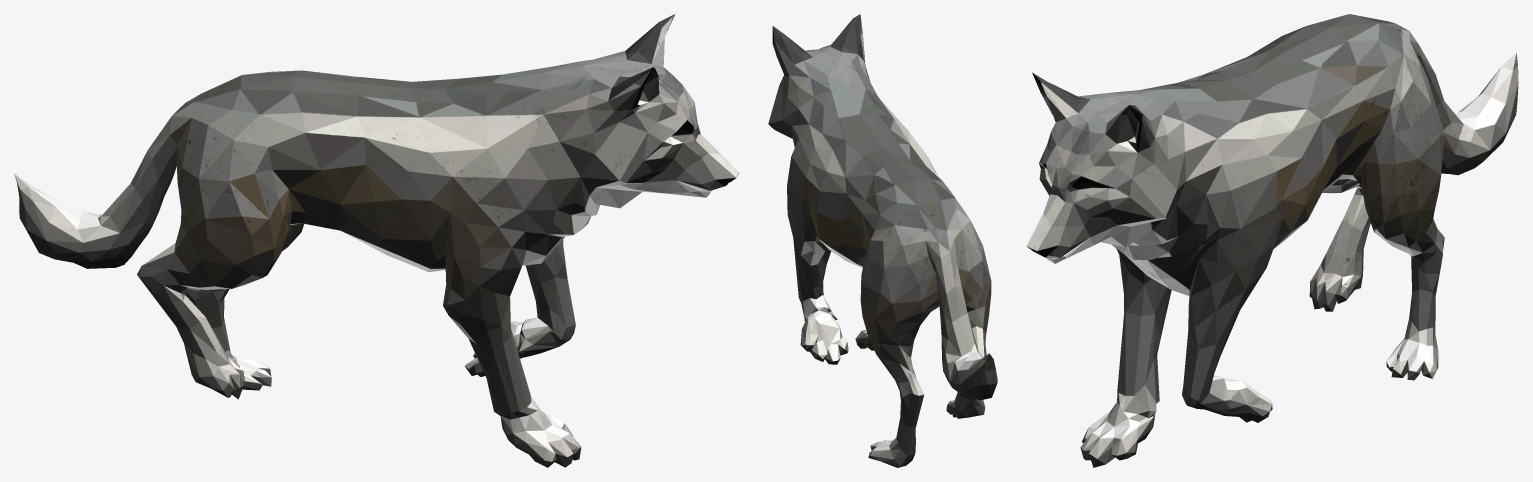
The model's file is wolf.fbx.
3 views of the same model, side by side, from view 1: azimuth 30°, elevation 25°; view 2: azimuth 150°, elevation 25°; view 3: azimuth 270°, elevation 25° (orthographic). The views are drawn at different scales.
Visible parts, largest first — view 1: node_id44; view 2: node_id44; view 3: node_id44.
Part boxes in pixels (x1,y1,x2,y2): node_id44: (14,14,739,467); node_id44: (768,14,997,467); node_id44: (1026,14,1518,467).
Bounding box in the file's own units: 0.6532 × 0.512 × 0.5434.
Materials: 1 (1 with a texture image).
